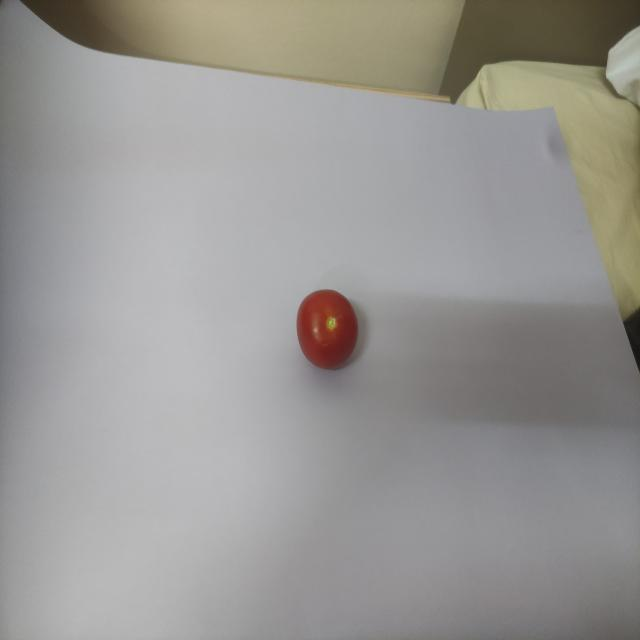kirmizi: (286, 269, 372, 378)
